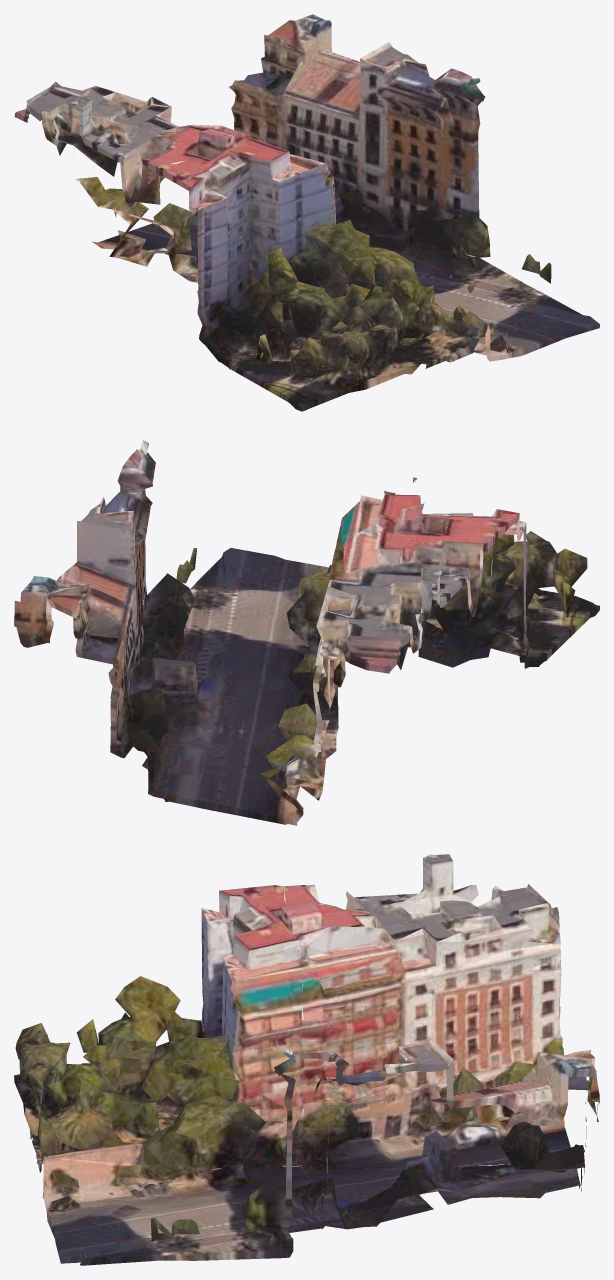
3 views of the same model, one above another, from view 1: azimuth 30°, elevation 25°; view 2: azimuth 150°, elevation 25°; view 3: azimuth 270°, elevation 25° (orthographic). The views are drawn at different scales.
Visible parts, largest first — view 1: Mesh_0; view 2: Mesh_0; view 3: Mesh_0.
Part boxes in pixels (x1,y1,x2,y2): Mesh_0: (14,14,599,411); Mesh_0: (14,440,599,825); Mesh_0: (14,854,599,1265).
Bounding box in the file's own units: 66.55 × 36.38 × 82.66.
1 material, 1 textured.
